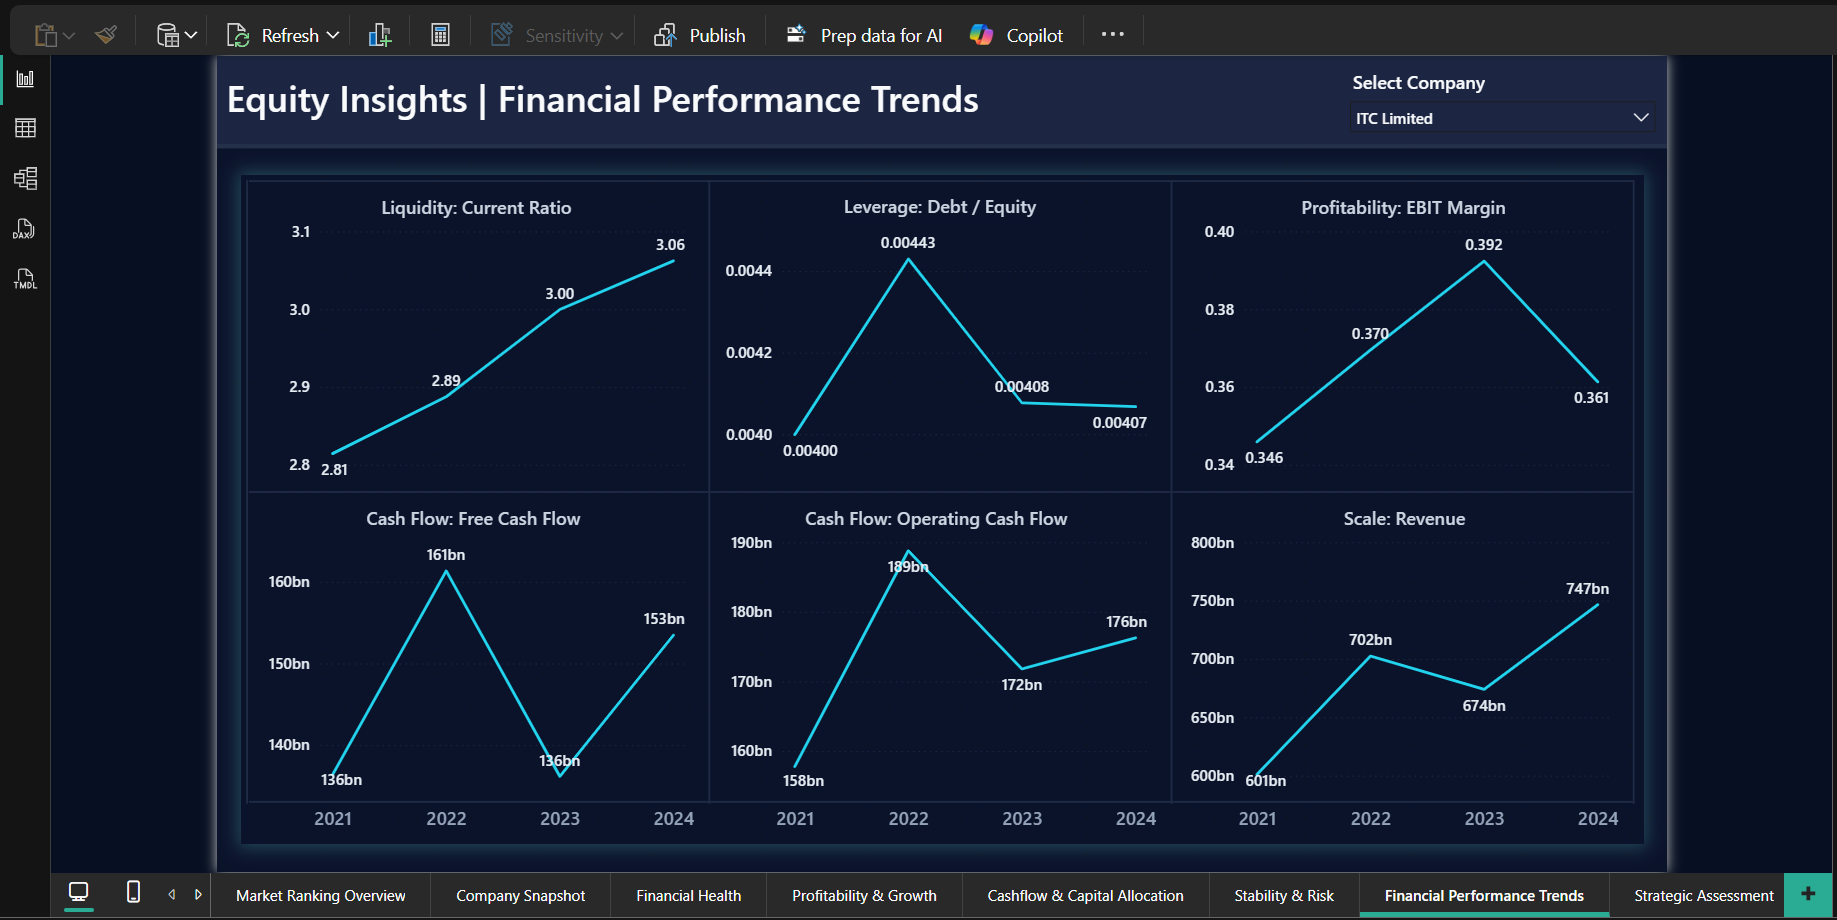

The dashboard page shown, as its layout file describes it:
{"tool":"powerbi","page":{"name":"Financial Performance Trends","canvas":[1280,720],"ordinal":6},"visuals":[{"type":"group","id":"g1","title":"Group 1","box":[0,0,1280,93.3],"z":0},{"type":"shape","box":[0,0,1280,80],"z":0,"group":"g1"},{"type":"textbox","box":[3.6,0,695.7,80.6],"z":1000,"group":"g1"},{"type":"lineChart","fields":{"Category":["gold_equity_derivedmetrics_allyears.fiscal_year"],"Rows":["gold_equity_derivedmetrics_allyears.metric_name"],"Y":["Sum(gold_equity_derivedmetrics_allyears.metric_value)"]},"box":[21.2,105,1238.8,591.2],"z":1000},{"type":"slicer","fields":{"Values":["gold_equity_basemetrics.company_name"]},"box":[990,0,290,80],"z":2000,"group":"g1"},{"type":"textbox","box":[140,117.1,182.9,31.4],"z":2000},{"type":"textbox","box":[548.6,115.7,182.9,31.4],"z":3000},{"type":"shape","box":[0,66.7,1280,26.7],"z":4000,"group":"g1"},{"type":"textbox","box":[952.5,117.5,202.5,31.2],"z":4000},{"type":"textbox","box":[127.1,391.4,208.6,31.4],"z":5000},{"type":"textbox","box":[514.3,391.4,252.9,31.4],"z":6000},{"type":"textbox","box":[990,391.4,128.6,31.4],"z":7000}]}

Visuals, with their boxes on the page's 1280x720 design canvas (x1, y1, x2, y2). These are canvas units, not pixel positions in the 1837x920 screenshot, which may show the page scaled, cropped or inside an application window:
"Group 1" group: 0/0/1280/93
shape: 0/0/1280/80
textbox: 4/0/699/81
lineChart - gold_equity_derivedmetrics_allyears.fiscal_year x gold_equity_derivedmetrics_allyears.metric_name: 21/105/1260/696
slicer - gold_equity_basemetrics.company_name: 990/0/1280/80
textbox: 140/117/323/148
textbox: 549/116/732/147
shape: 0/67/1280/93
textbox: 952/118/1155/149
textbox: 127/391/336/423
textbox: 514/391/767/423
textbox: 990/391/1119/423
